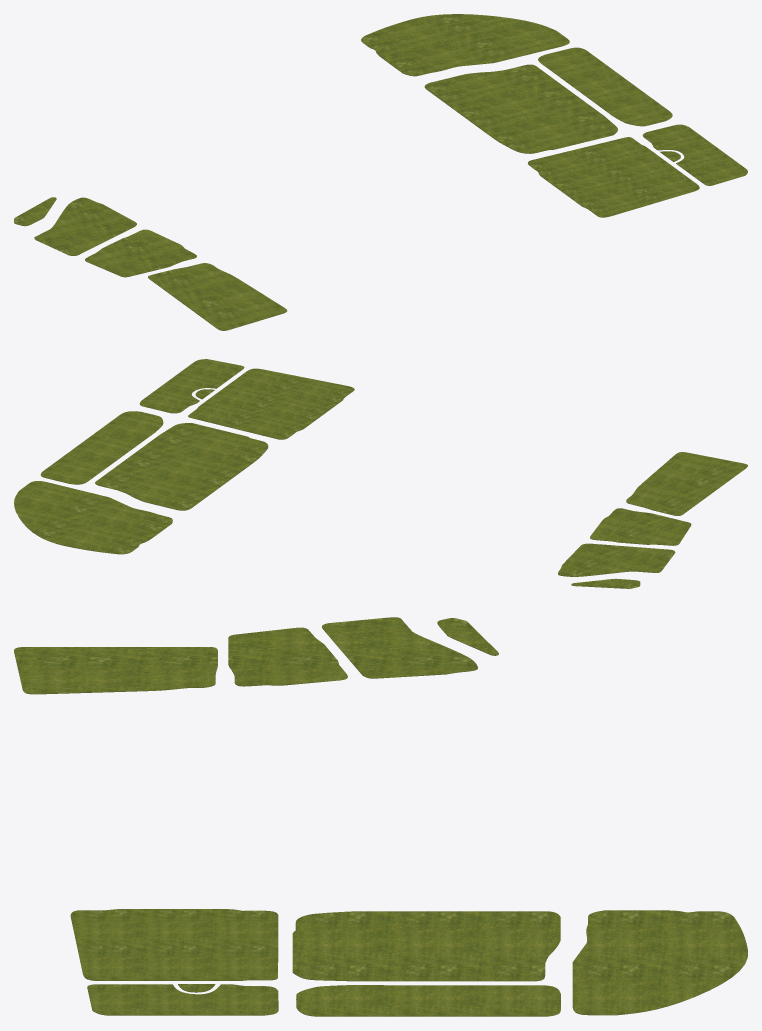
The model's file is 1_floor.FBX.
3 renders of one model, top to bottom at view 1: azimuth 30°, elevation 25°; view 2: azimuth 150°, elevation 25°; view 3: azimuth 270°, elevation 25°, orthographic. The views are drawn at different scales.
Visible parts, largest first — view 1: 1side_floor, Pavements, 1floor; view 2: 1side_floor, Pavements, 1floor; view 3: 1side_floor, Pavements, 1floor.
Part boxes in pixels (x1=…): 1side_floor: x1=361, y1=14, x2=672, y2=153; Pavements: x1=14, y1=197, x2=287, y2=330; 1floor: x1=528, y1=124, x2=747, y2=217; 1side_floor: x1=14, y1=411, x2=268, y2=554; Pavements: x1=558, y1=452, x2=747, y2=588; 1floor: x1=139, y1=359, x2=354, y2=439; 1side_floor: x1=292, y1=910, x2=747, y2=1016; Pavements: x1=14, y1=617, x2=498, y2=694; 1floor: x1=70, y1=909, x2=278, y2=1015.
Size of the model in its own units: 1020 by 0.4608 by 793.
